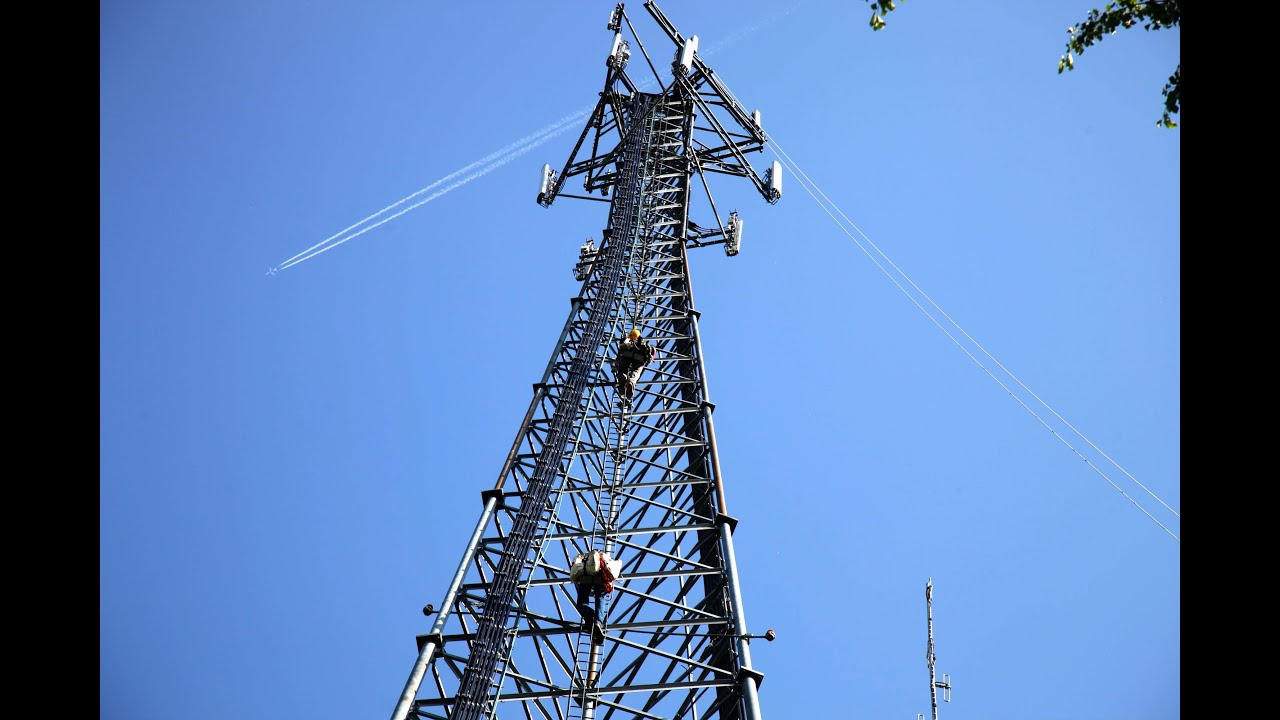sa: (537, 152, 569, 215), (664, 29, 700, 80), (758, 156, 787, 212), (721, 207, 740, 265)
